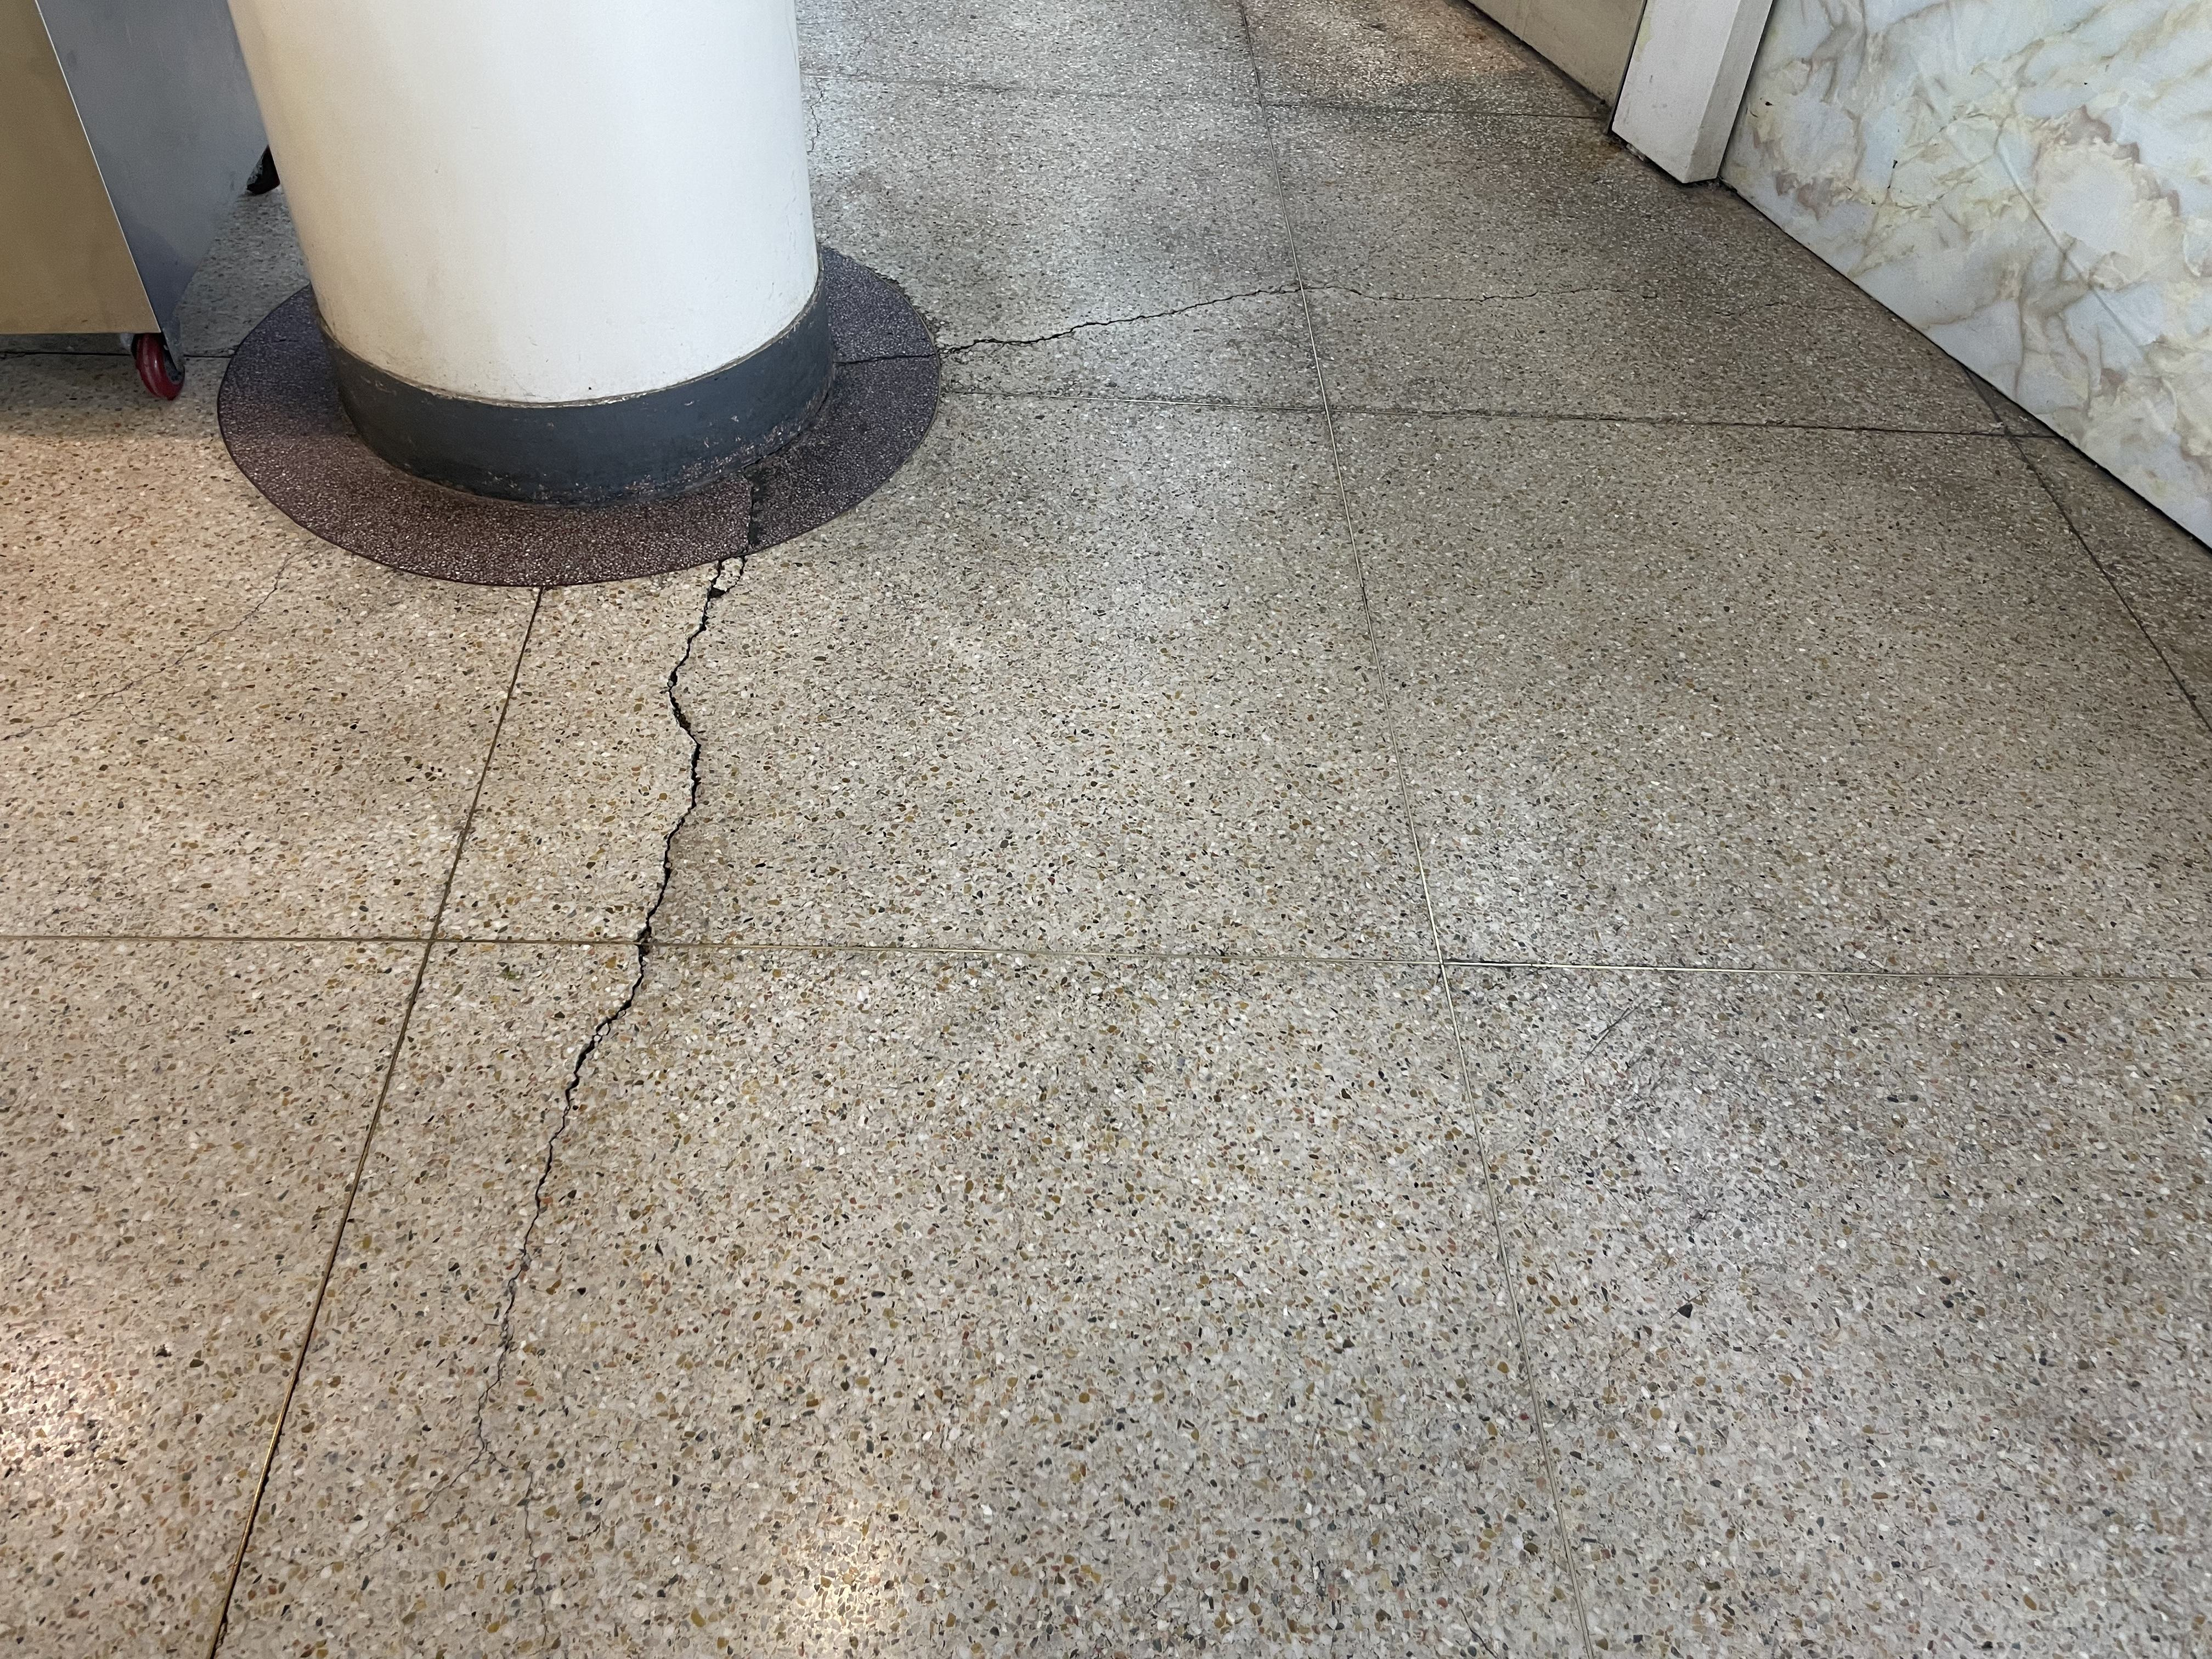Crack: (479, 471, 768, 1650), (834, 286, 1660, 368), (0, 537, 319, 741), (296, 1457, 477, 1595), (1709, 301, 1883, 317), (806, 77, 824, 155)
